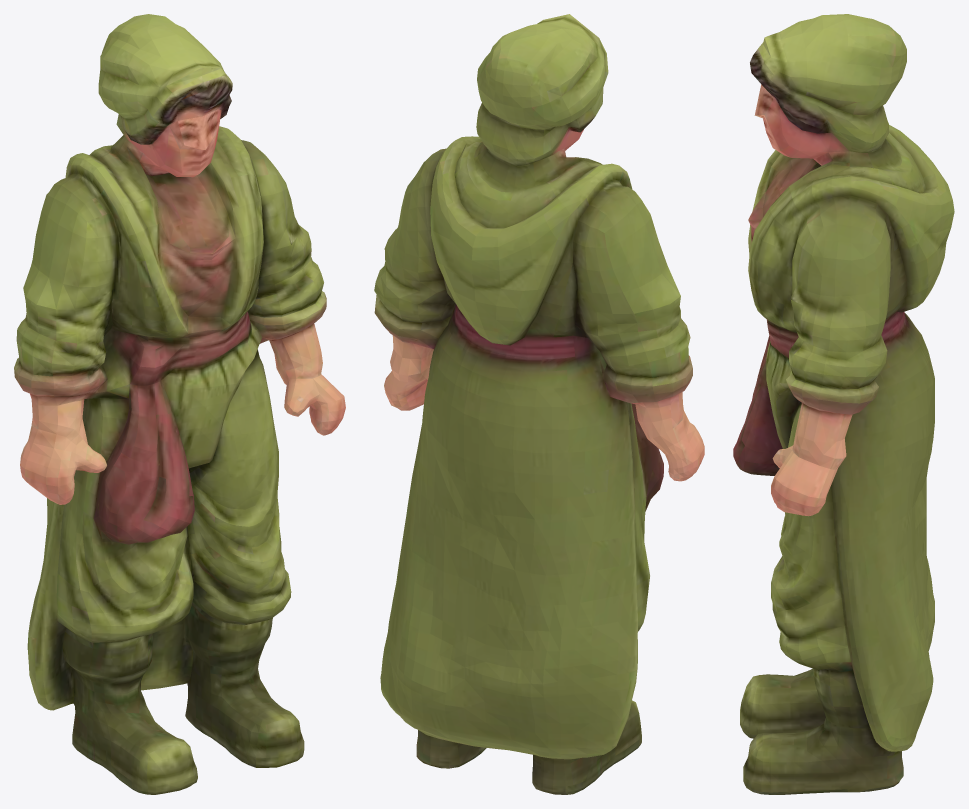
Rendered from villager_green.glb.
The picture shows the model from 3 angles, left to right: view 1: azimuth 30°, elevation 25°; view 2: azimuth 150°, elevation 25°; view 3: azimuth 270°, elevation 25°; orthographic projection.
Size of the model in its own units: 0.8571 by 1.91 by 0.5284.
1 material, 1 textured.
